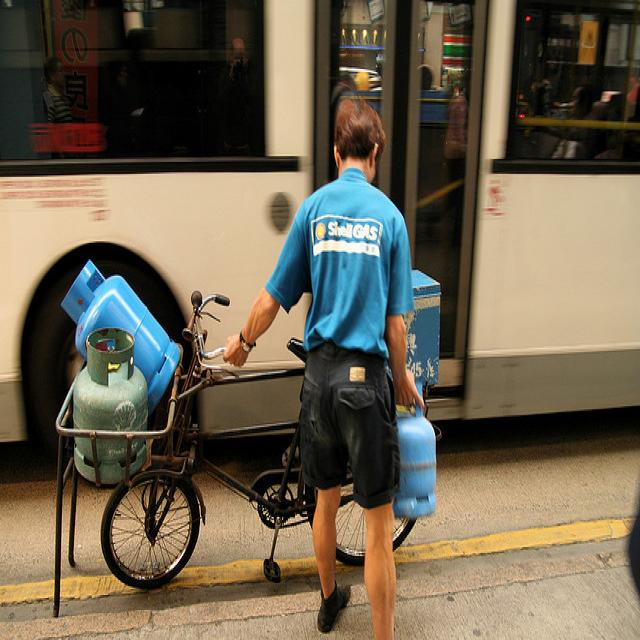Vehicle: (3, 2, 640, 464)
